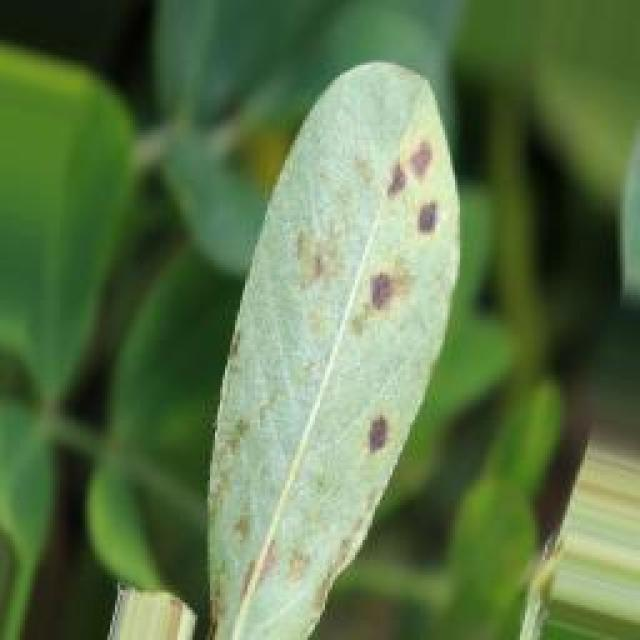Yellowish: (339, 118, 454, 354), (195, 367, 318, 586), (279, 201, 379, 326), (313, 388, 436, 478)
